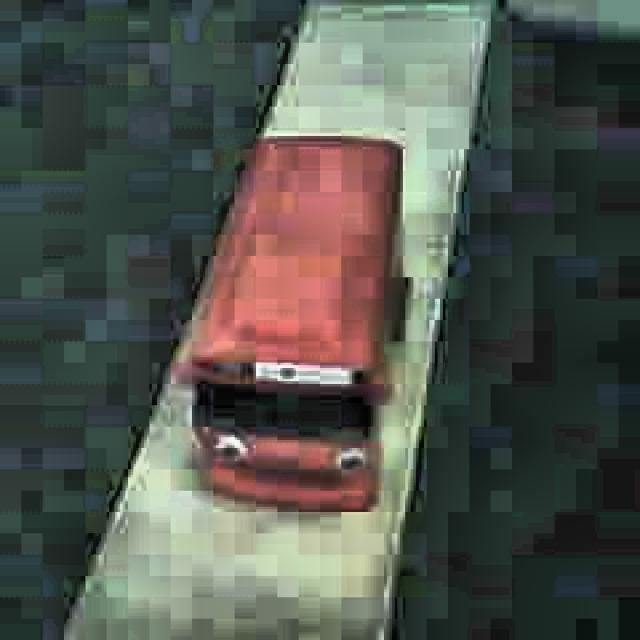bus: (173, 130, 413, 516)
